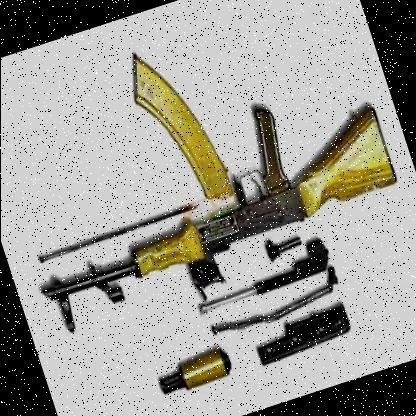rifle: (0, 0, 416, 344)
